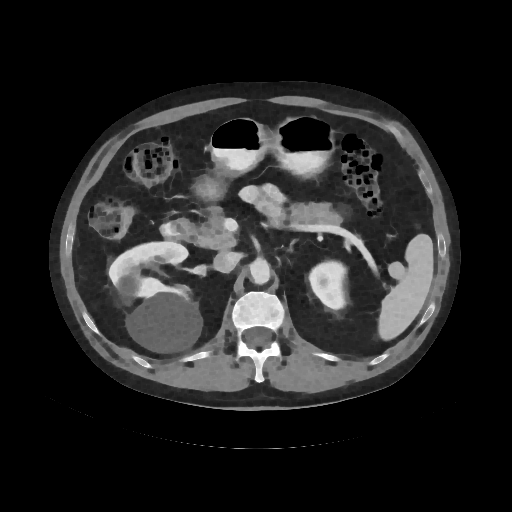Lesion: (122, 288, 206, 356)
